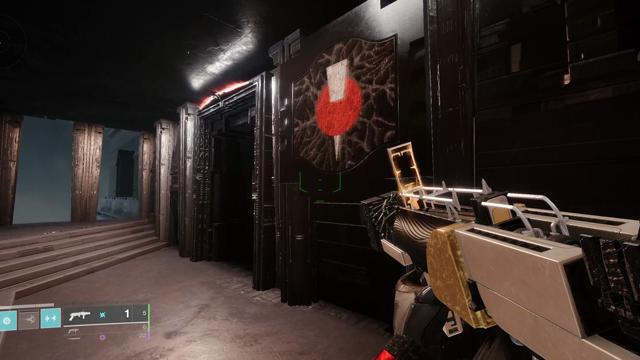kill: (292, 34, 400, 174)
